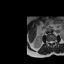CCS_normal: (50, 40, 52, 44)
LFS_normal: (53, 39, 55, 43)
LLS_normal: (52, 39, 53, 44)
RFS_normal: (48, 40, 50, 44)
RLS_normal: (49, 40, 51, 44)
